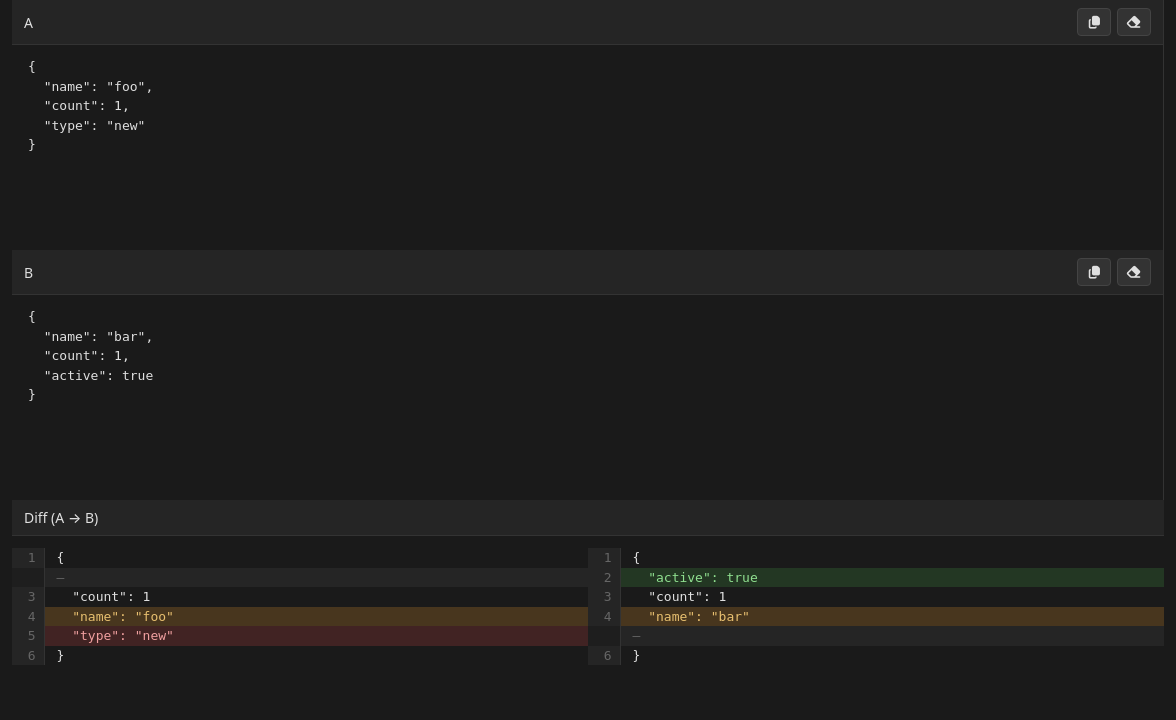
Test: JsonDiffView › Clear in A clears the A textarea
Step 1. Click the 1st button named "clear" → (1134, 22), box [1117,8,1151,36]
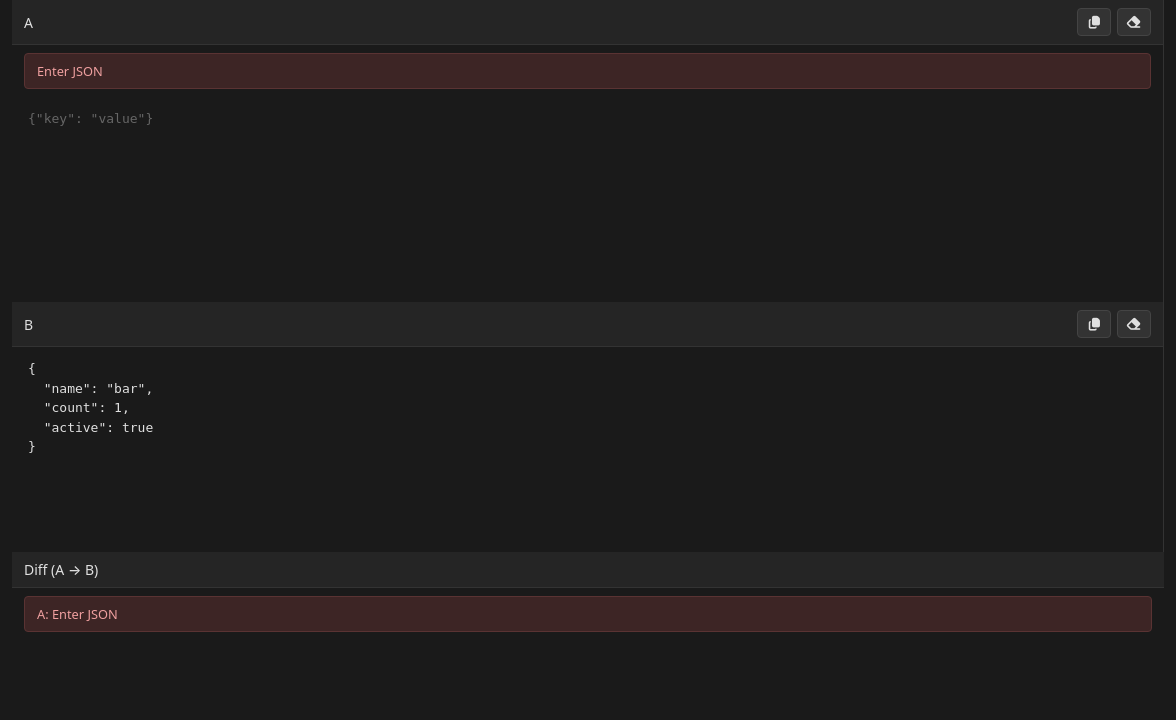
Check: the text box named "A Input" is empty, box [12,97,1163,297]
